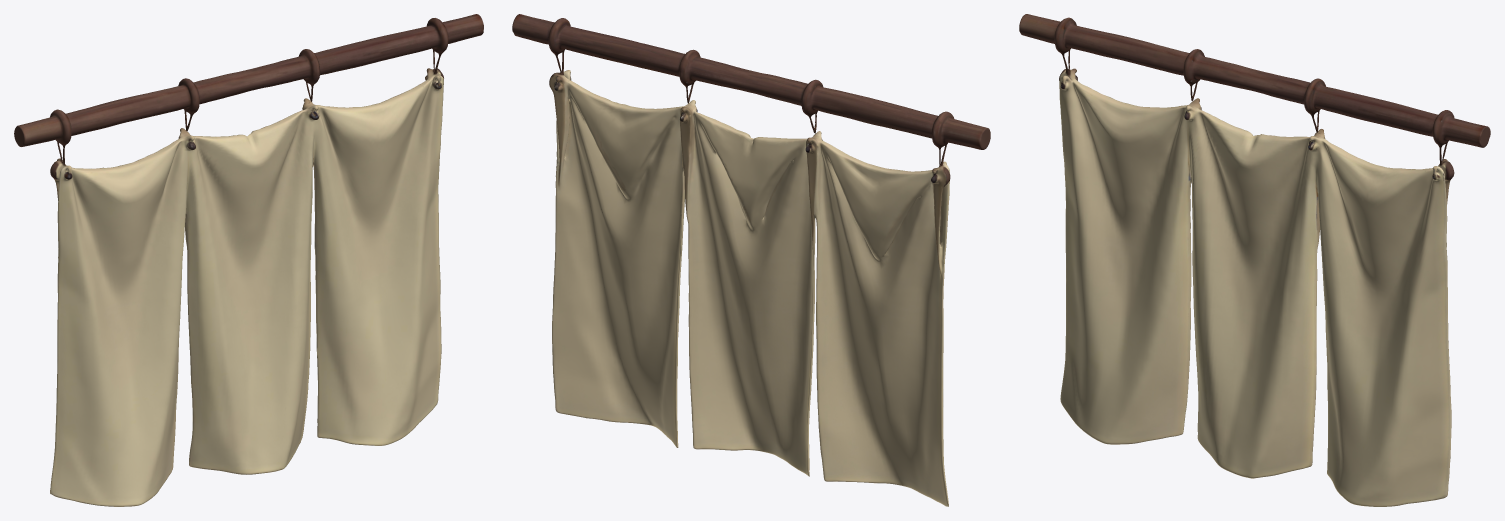
File: noren_curtain_3d_model.fbx
3 views of the same model, side by side, from view 1: azimuth 30°, elevation 25°; view 2: azimuth 150°, elevation 25°; view 3: azimuth 330°, elevation 25° (orthographic).
Parts seen in each view (by area): view 1: tripo_node_30bba751; view 2: tripo_node_30bba751; view 3: tripo_node_30bba751.
Part boxes in pixels (<box>): tripo_node_30bba751: <box>14,14,483,506</box>; tripo_node_30bba751: <box>512,14,990,506</box>; tripo_node_30bba751: <box>1019,14,1490,506</box>.
Size of the model in its own units: 1 by 0.8219 by 0.109.
